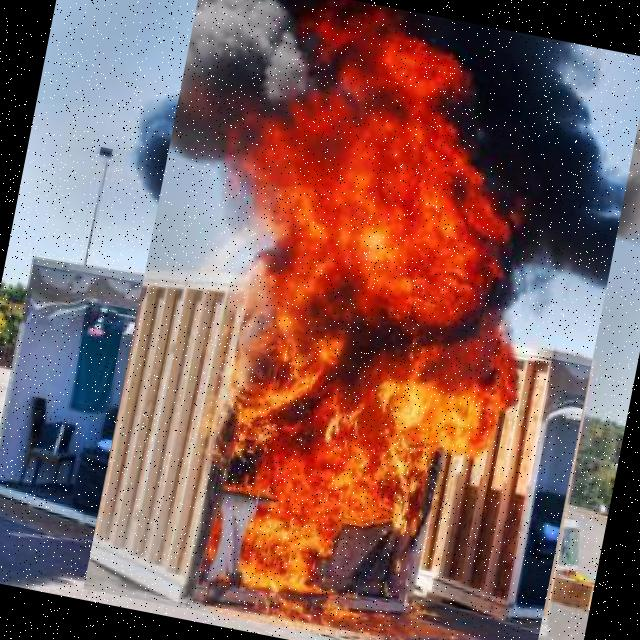fire: (83, 0, 640, 640)
